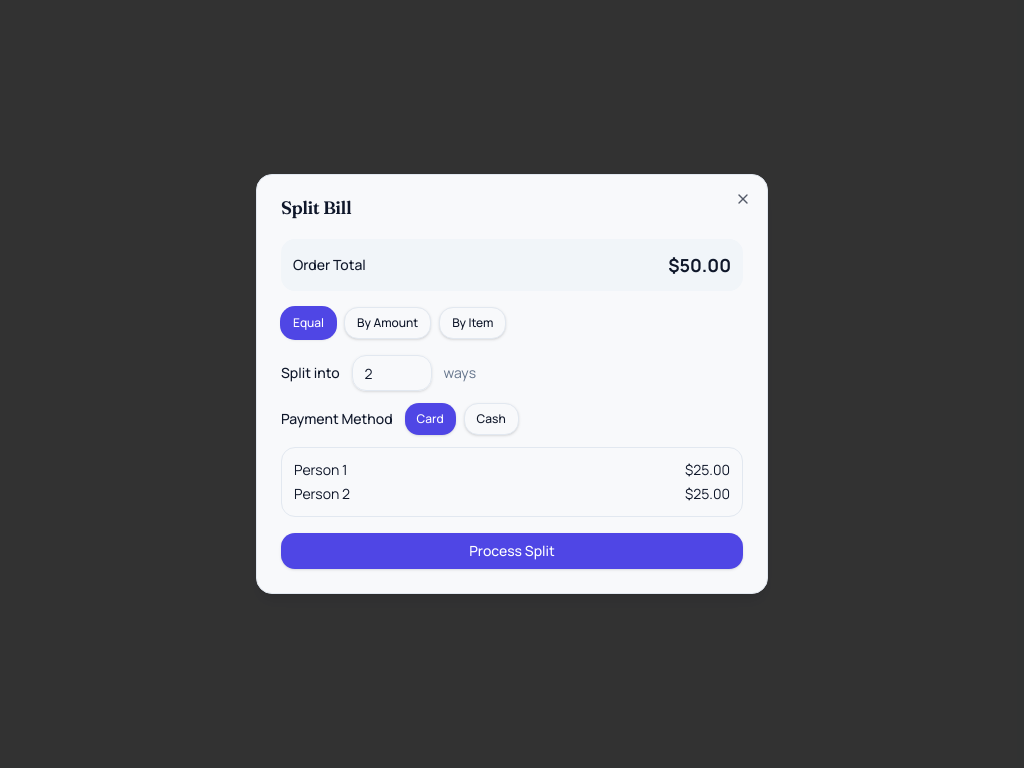
Test: SplitBillDialog › switches to By Item mode when clicked
Click the button "By Item": (473,323) [439,307,506,339]
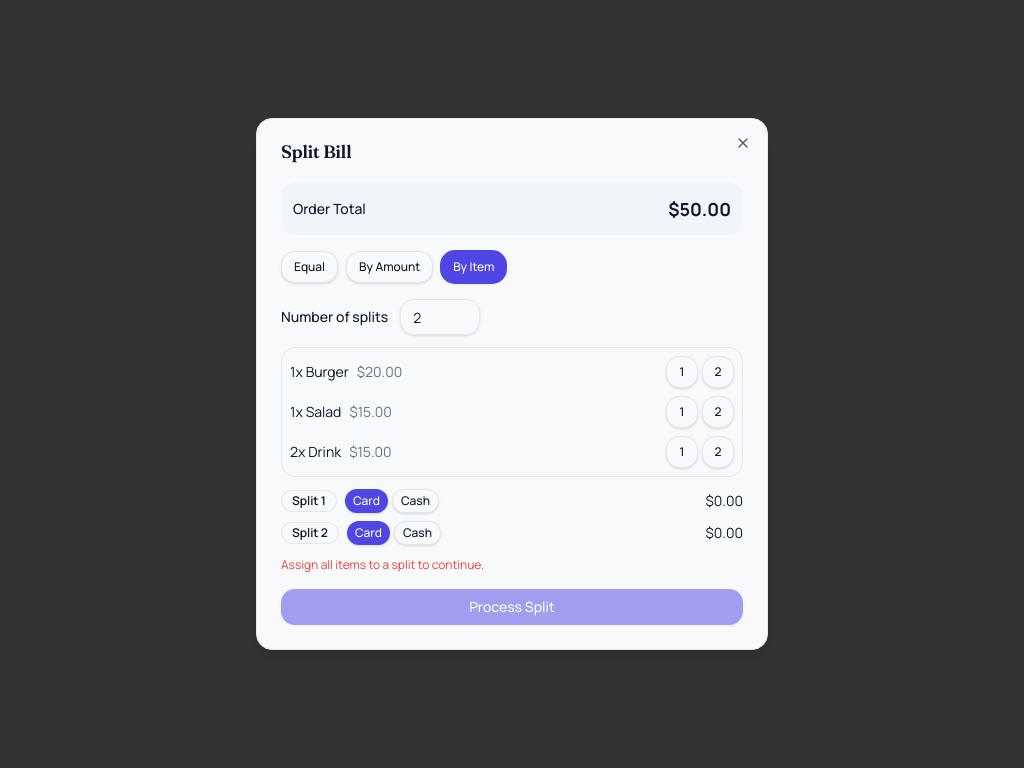
Result: the text "1x Burger" is shown at [290,362,349,381]
Result: the text "1x Salad" is shown at [290,402,341,421]
Result: the text "2x Drink" is shown at [290,442,341,461]
